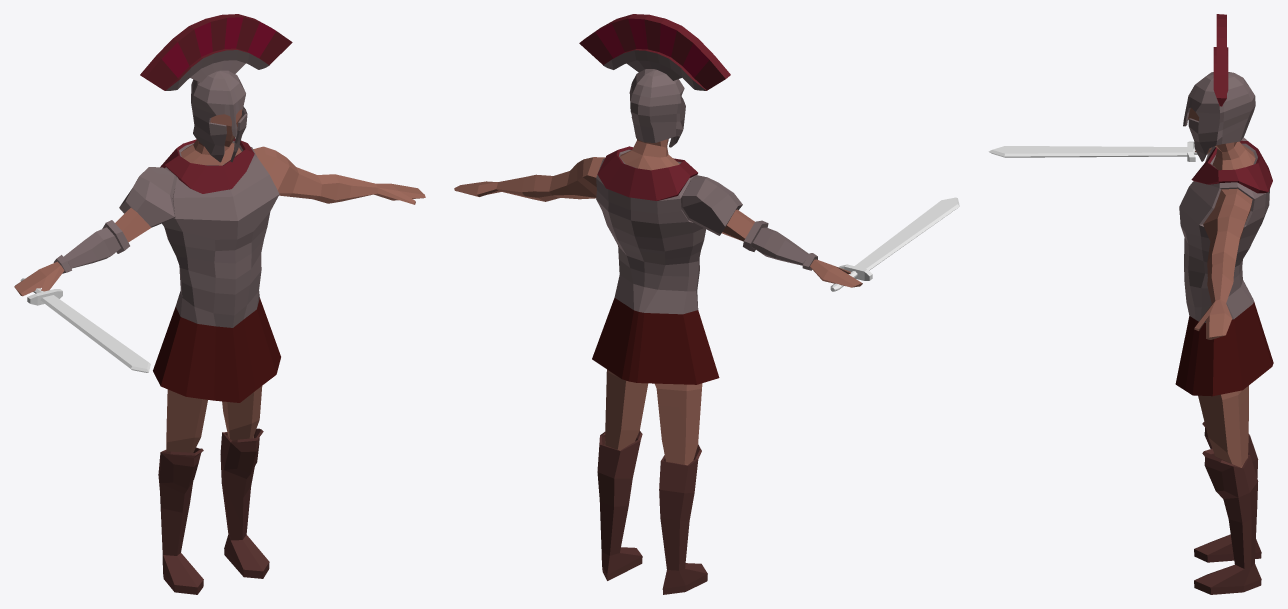
File: Roman_Centurion.fbx
The picture shows the model from 3 angles, left to right: view 1: azimuth 30°, elevation 25°; view 2: azimuth 150°, elevation 25°; view 3: azimuth 270°, elevation 25°; orthographic projection.
Parts seen in each view (by area): view 1: Shirt_Cylinder.003, Body_Cylinder, Boots_Cylinder.004, Helm_top_Cube.001, Helmet_Cylinder.002, Cloak_Cylinder.001, Shoulder_Cylinder.006, Cube, Wrist_Guard_Cylinder.005; view 2: Shirt_Cylinder.003, Body_Cylinder, Boots_Cylinder.004, Helm_top_Cube.001, Helmet_Cylinder.002, Cloak_Cylinder.001, Shoulder_Cylinder.006, Cube, Wrist_Guard_Cylinder.005; view 3: Shirt_Cylinder.003, Body_Cylinder, Boots_Cylinder.004, Helmet_Cylinder.002, Cube, Cloak_Cylinder.001, Helm_top_Cube.001.
Part boxes in pixels (left/top/right/bottom): Shirt_Cylinder.003: left=153, top=141, right=280, bottom=402; Body_Cylinder: left=14, top=109, right=425, bottom=452; Boots_Cylinder.004: left=158, top=428, right=269, bottom=594; Helm_top_Cube.001: left=140, top=14, right=292, bottom=90; Helmet_Cylinder.002: left=191, top=70, right=247, bottom=162; Cloak_Cylinder.001: left=160, top=138, right=254, bottom=193; Shoulder_Cylinder.006: left=119, top=167, right=176, bottom=227; Cube: left=20, top=278, right=150, bottom=372; Wrist_Guard_Cylinder.005: left=53, top=220, right=129, bottom=273; Shirt_Cylinder.003: left=592, top=149, right=719, bottom=384; Body_Cylinder: left=454, top=139, right=862, bottom=465; Boots_Cylinder.004: left=597, top=430, right=707, bottom=594; Helm_top_Cube.001: left=579, top=14, right=730, bottom=90; Helmet_Cylinder.002: left=629, top=69, right=685, bottom=147; Cloak_Cylinder.001: left=597, top=146, right=697, bottom=200; Shoulder_Cylinder.006: left=681, top=175, right=742, bottom=235; Cube: left=830, top=197, right=959, bottom=291; Wrist_Guard_Cylinder.005: left=743, top=220, right=817, bottom=270; Shirt_Cylinder.003: left=1175, top=143, right=1273, bottom=396; Body_Cylinder: left=1188, top=108, right=1255, bottom=467; Boots_Cylinder.004: left=1194, top=422, right=1261, bottom=594; Helmet_Cylinder.002: left=1183, top=72, right=1255, bottom=161; Cube: left=988, top=141, right=1207, bottom=161; Cloak_Cylinder.001: left=1191, top=140, right=1272, bottom=193; Helm_top_Cube.001: left=1213, top=14, right=1228, bottom=106.
Bounding box in the file's own units: 150 × 197 × 92.89.
